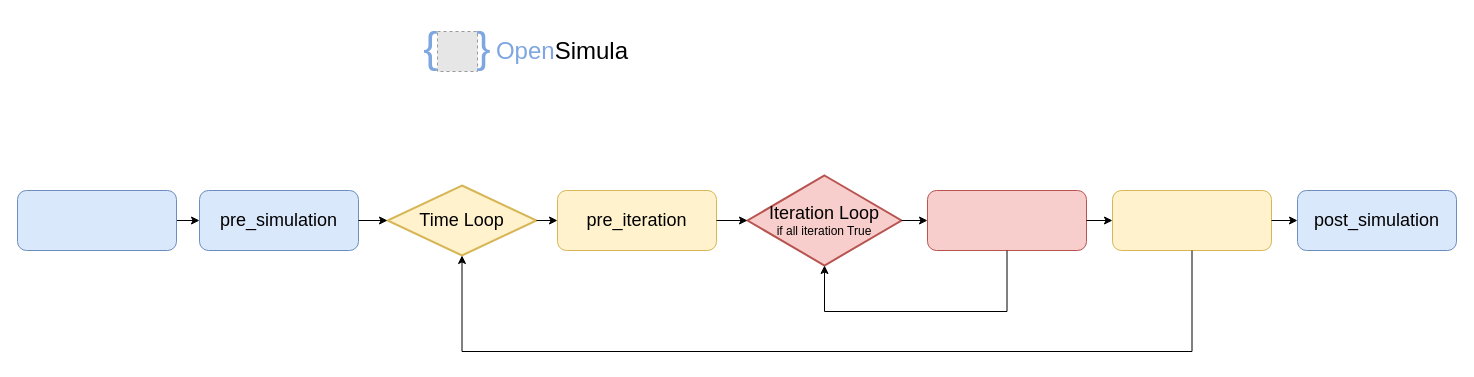
This 1474x377 diagram has some shape labels left out. Grey dashed boxes stand in for pictures. The shapes that lost their labels are listed below. From the top down, each one's centre as x and y in pixels, then its label:
At point (96, 220): "Check".
At point (1006, 220): "iteration".
At point (1192, 220): "post_iteration".
